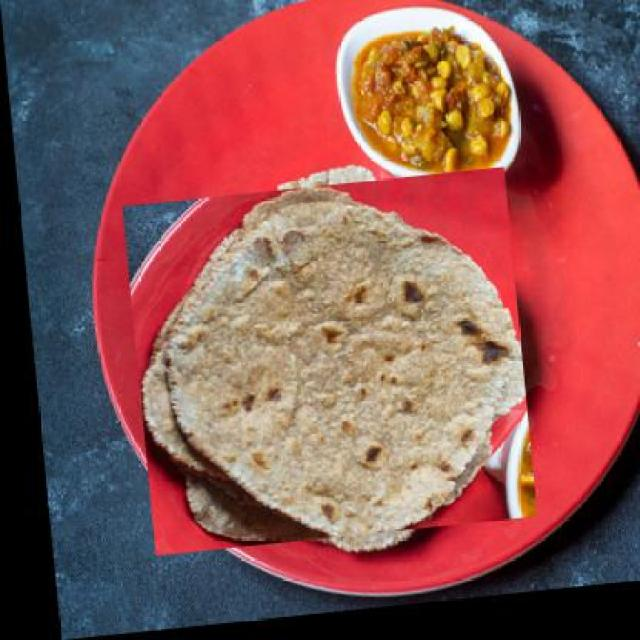chapati: (124, 170, 521, 567)
